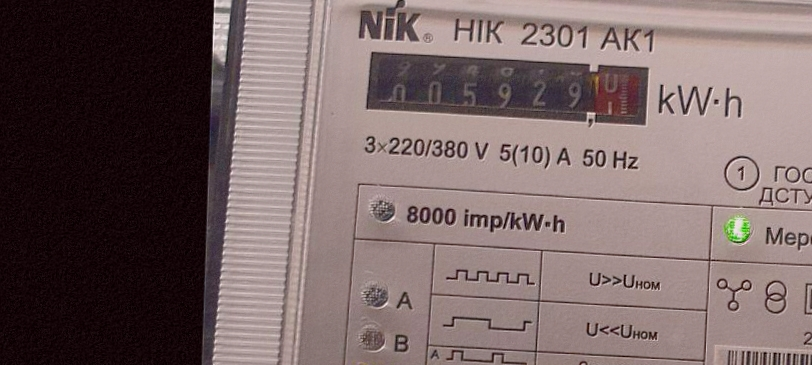0: (425, 79, 445, 107), (389, 79, 410, 103), (602, 72, 622, 95)
2: (529, 77, 550, 111)
5: (460, 80, 479, 108)
9: (493, 80, 515, 111), (565, 79, 585, 112), (394, 59, 413, 78)
screen: (360, 46, 657, 135)
